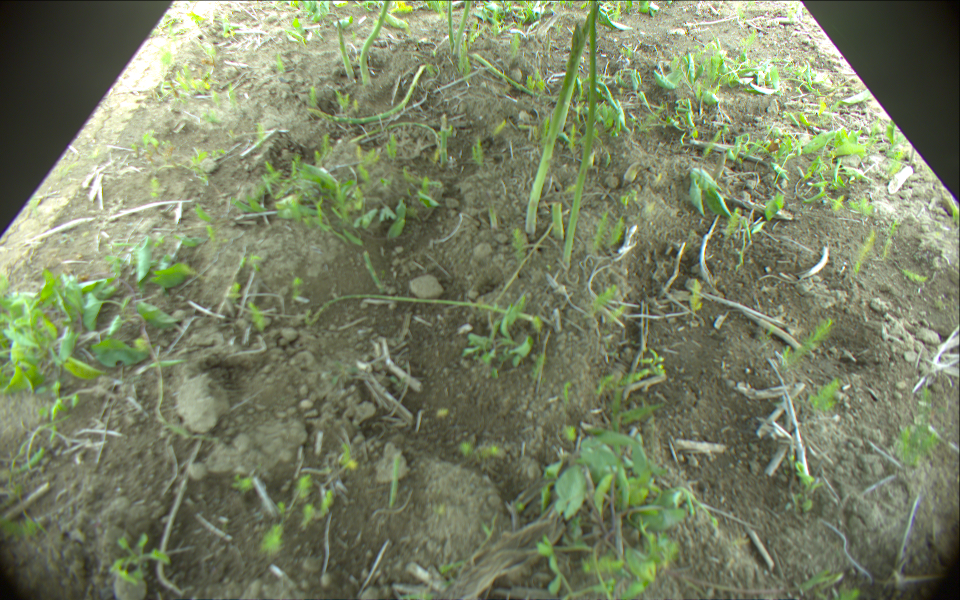aspa: (523, 22, 583, 235), (563, 1, 599, 267), (310, 293, 536, 331), (314, 63, 425, 119), (557, 1, 600, 133), (471, 54, 555, 97), (360, 1, 388, 83), (338, 20, 355, 83), (452, 1, 468, 56), (551, 201, 563, 242), (447, 1, 454, 46)
